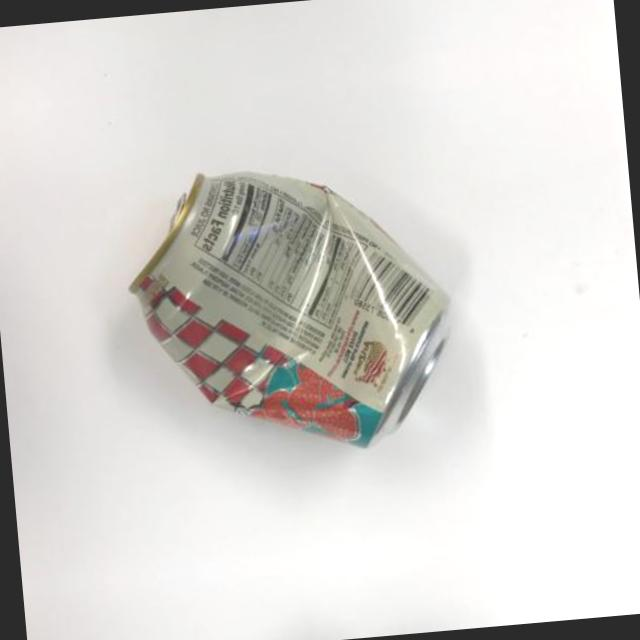Metal: (89, 124, 466, 485), (77, 0, 428, 44)
